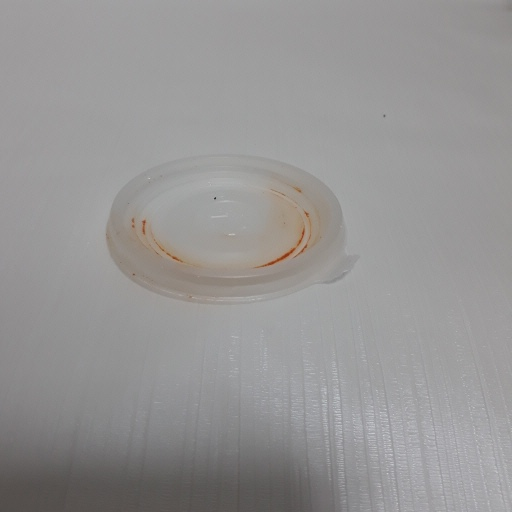Plastic_5: (101, 150, 361, 311)
